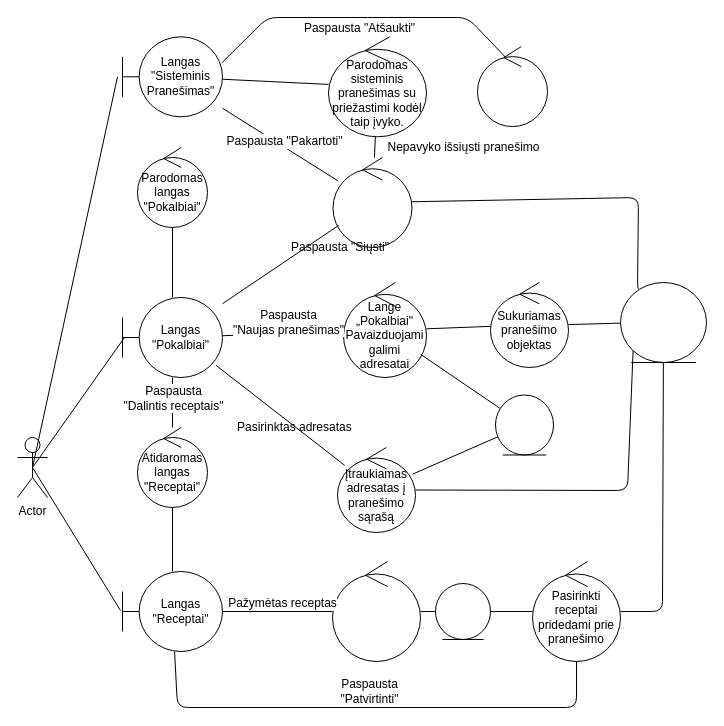
Image size: 724x726. Some labels were removed from this diagram. Each missing label, with the box of its shape:
Naudotojo paskyra: (494, 394, 554, 455)
Pažymėtas receptas užfiksuojamas sąraše: (332, 560, 420, 662)
Pranešimas: (620, 282, 706, 362)
Pranešimas išsiunčiamas gavėjui: (332, 156, 412, 248)
Receptas: (434, 582, 490, 640)
Uždaromas langas "Sisteminis Pranešimas": (476, 46, 548, 127)
